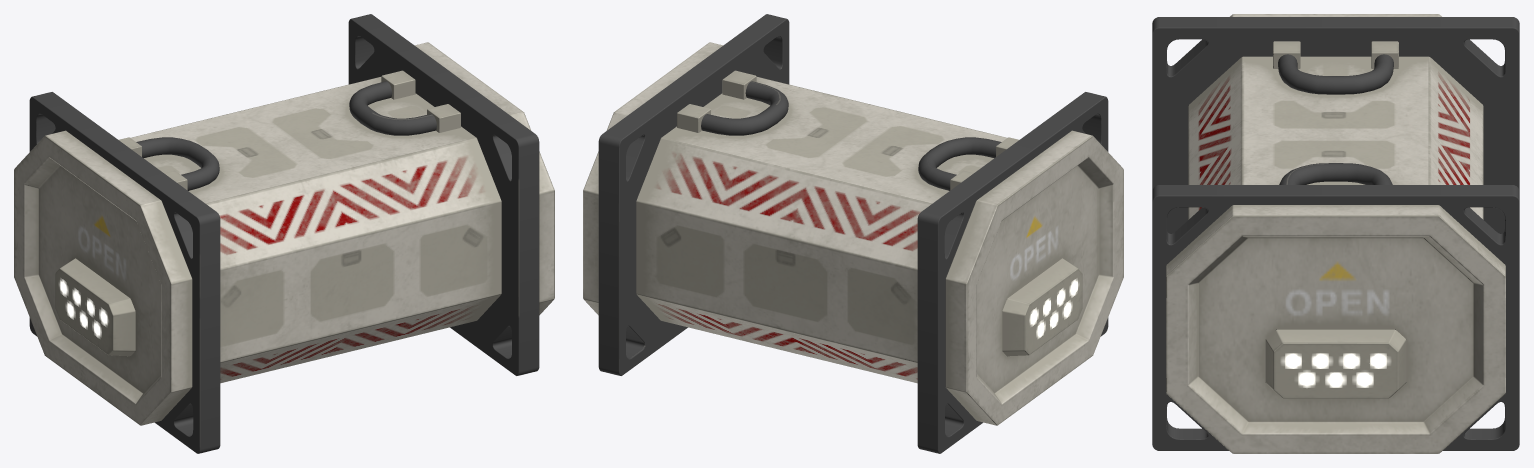
File: SM_Crates3pt3-3.fbx
The picture shows the model from 3 angles, left to right: view 1: azimuth 30°, elevation 25°; view 2: azimuth 150°, elevation 25°; view 3: azimuth 270°, elevation 25°; orthographic projection. The views are drawn at different scales.
Parts seen in each view (by area): view 1: SM_Crates3pt3-3_LOD0; view 2: SM_Crates3pt3-3_LOD0; view 3: SM_Crates3pt3-3_LOD0.
Boxes of the visible parts, x1=… form: SM_Crates3pt3-3_LOD0: x1=14, y1=14, x2=554, y2=453; SM_Crates3pt3-3_LOD0: x1=583, y1=14, x2=1123, y2=453; SM_Crates3pt3-3_LOD0: x1=1152, y1=14, x2=1519, y2=453.
Size of the model in its own units: 102 by 57.67 by 75.01.
Materials: 1 (1 with a texture image).
